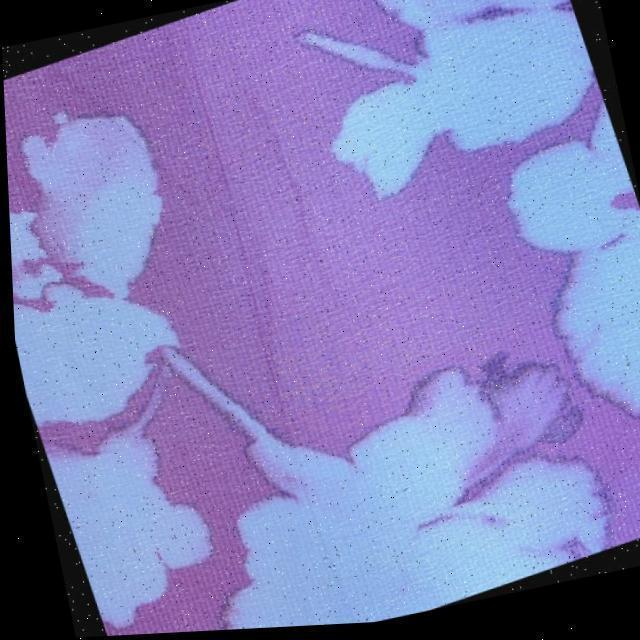pulled_or_thick_thread: (181, 54, 280, 418)
